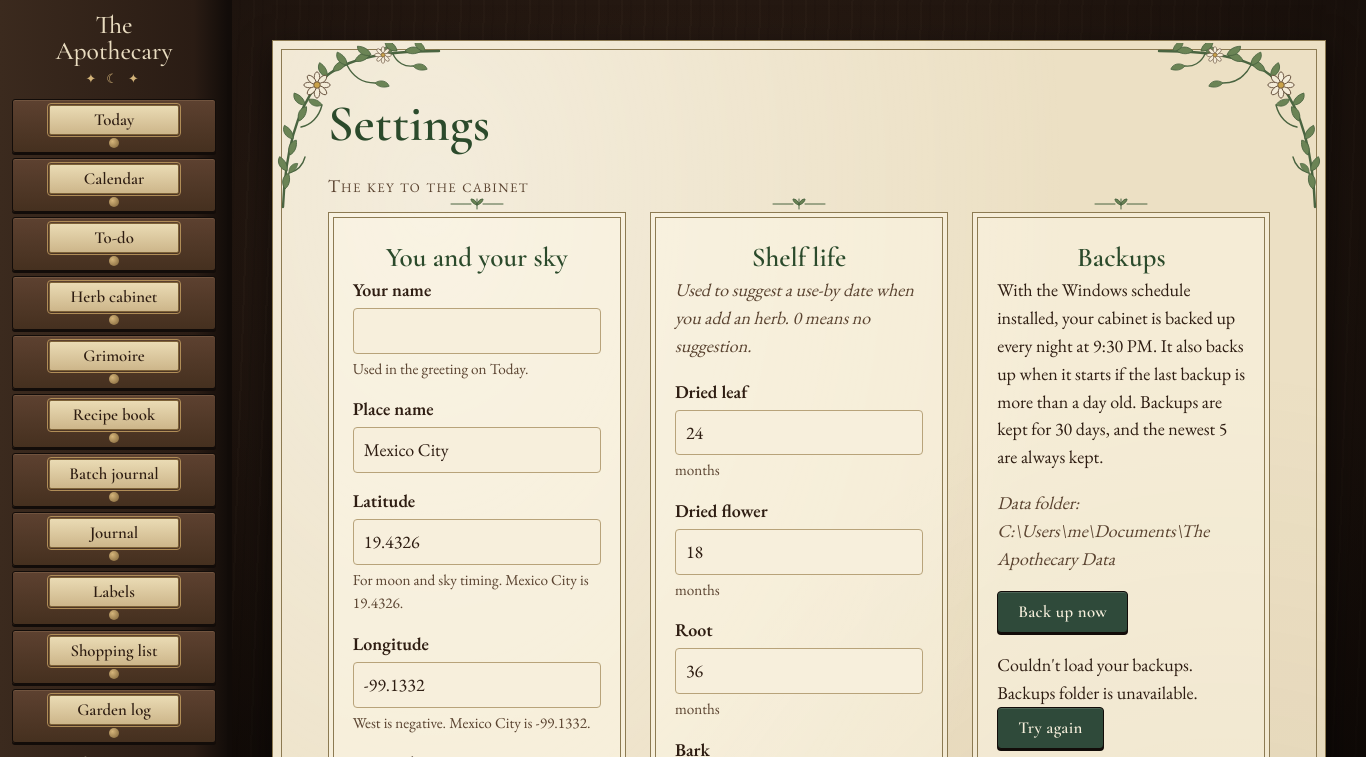
Test: says when backups could not load and lets her try again
The width and height of the screenshot is (1366, 757).
Check: the text "Couldn't load your backups. Backups folder is unavailable. Try again" is shown, box top-left (997, 653), bottom-right (1198, 749)
Click the button "Try again". click: x=1050, y=728
box: top-left (997, 707), bottom-right (1104, 749)
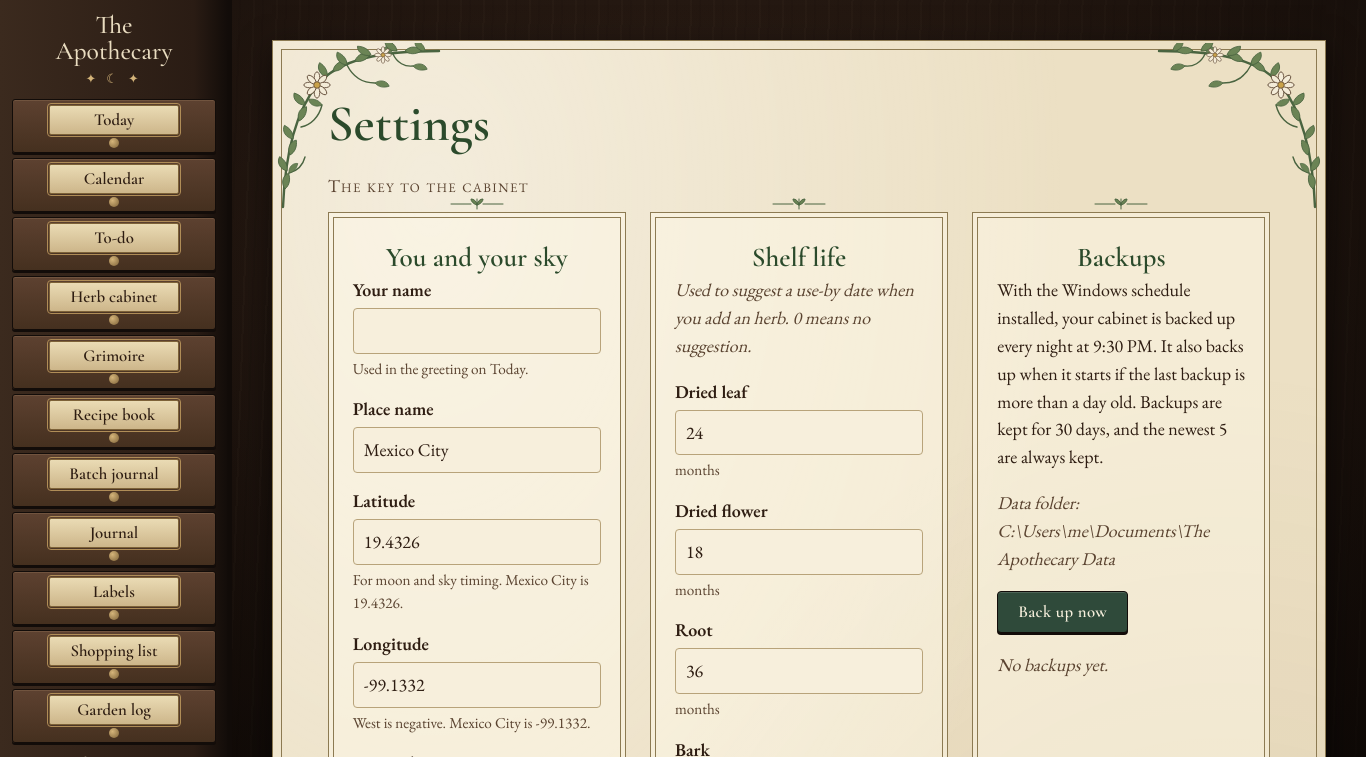
Check: the text "No backups yet." is shown, box top-left (997, 653), bottom-right (1108, 676)
